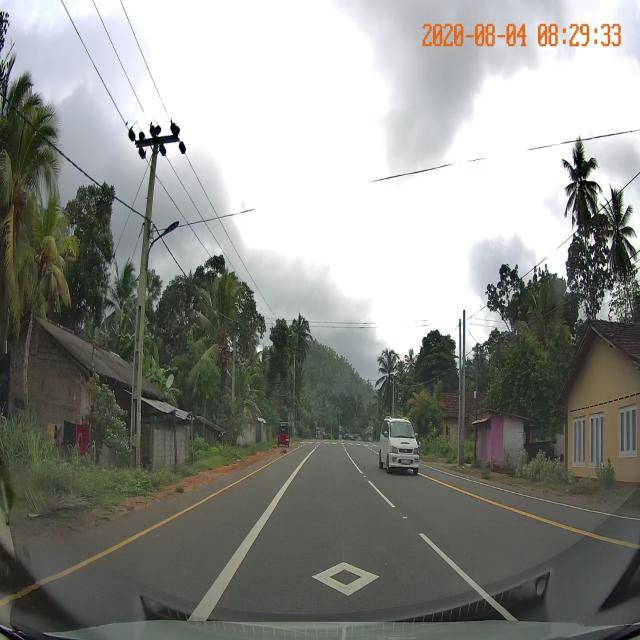diamond: (202, 558, 484, 604)
